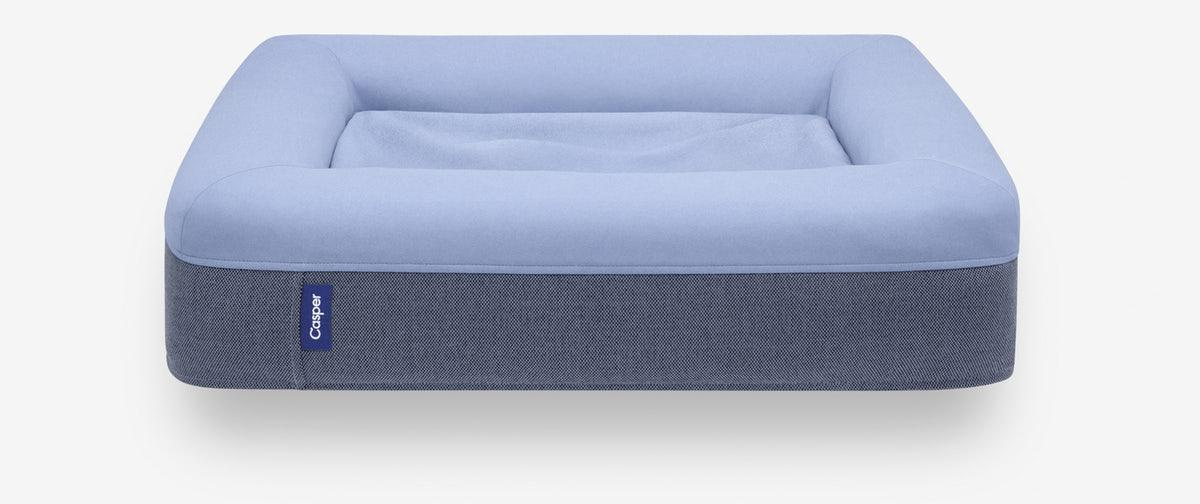bed: (133, 15, 1091, 436)
